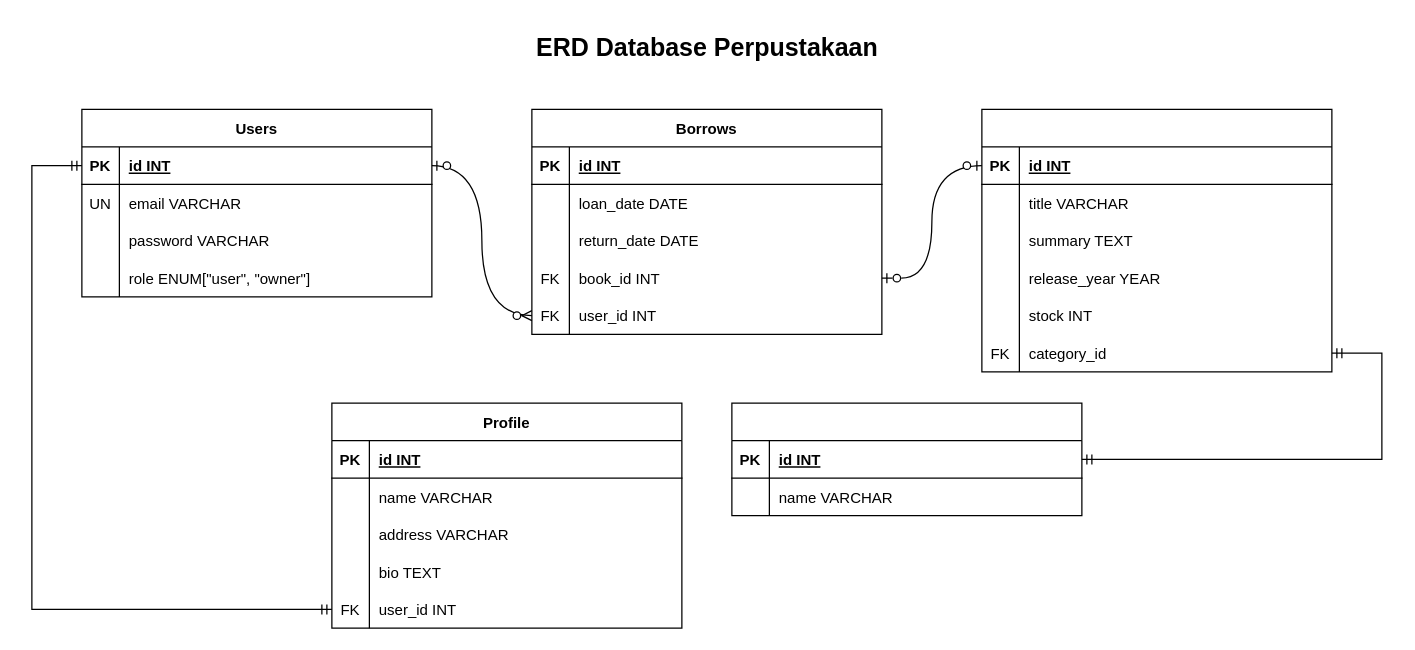
The diagram is 1415 pixels wide and 650 high, and some of its shapes have lost their labels. Here are the shapes that lost their labels. From the top down, the box of each, then its label:
(981, 108, 1332, 372): Books
(731, 402, 1082, 516): Categories
